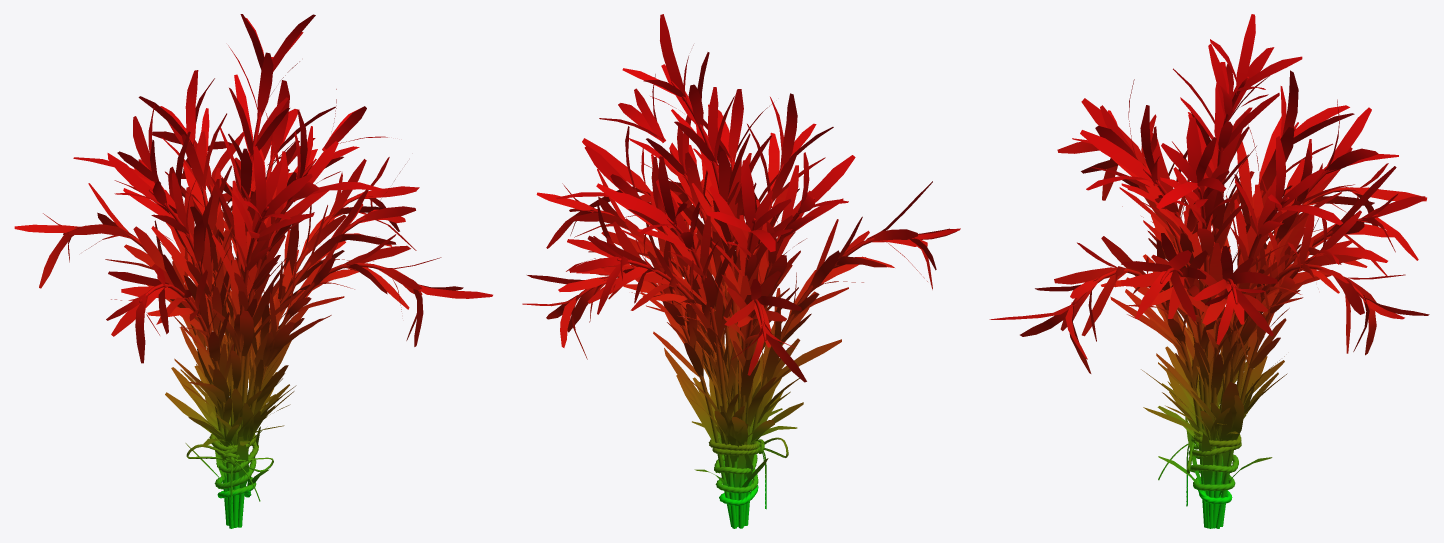
Rendered from Var9_LOD1.fbx.
3 renders of one model, left to right at view 1: azimuth 30°, elevation 25°; view 2: azimuth 150°, elevation 25°; view 3: azimuth 270°, elevation 25°, orthographic. The views are drawn at different scales.
Visible parts, largest first — view 1: _u4dr_Var9_LOD1; view 2: _u4dr_Var9_LOD1; view 3: _u4dr_Var9_LOD1.
Part boxes in pixels (bbox=[...]): _u4dr_Var9_LOD1: bbox=[14, 14, 492, 528]; _u4dr_Var9_LOD1: bbox=[522, 14, 960, 528]; _u4dr_Var9_LOD1: bbox=[989, 14, 1429, 528].
Size of the model in its own units: 24.69 by 32.78 by 24.81.
